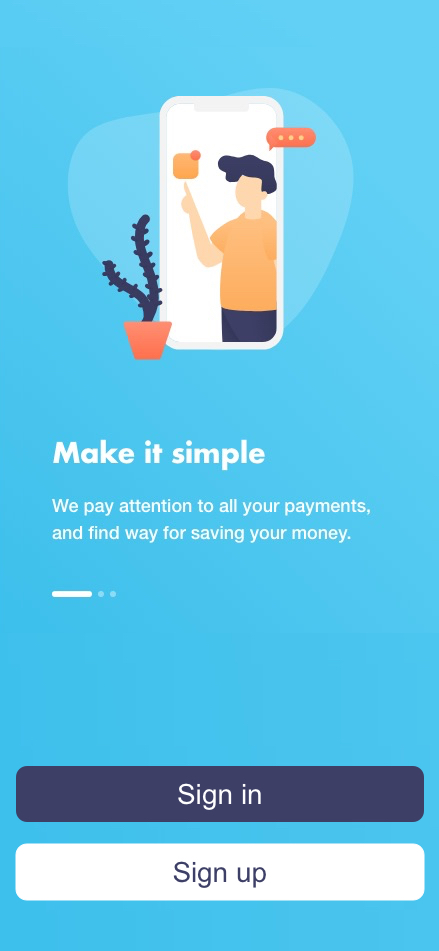Image: (67, 88, 354, 362)
PageIndicator: (52, 590, 118, 599)
Text: (52, 499, 371, 545), (53, 440, 266, 472)
TextButton: (15, 843, 425, 902), (16, 765, 425, 823)
